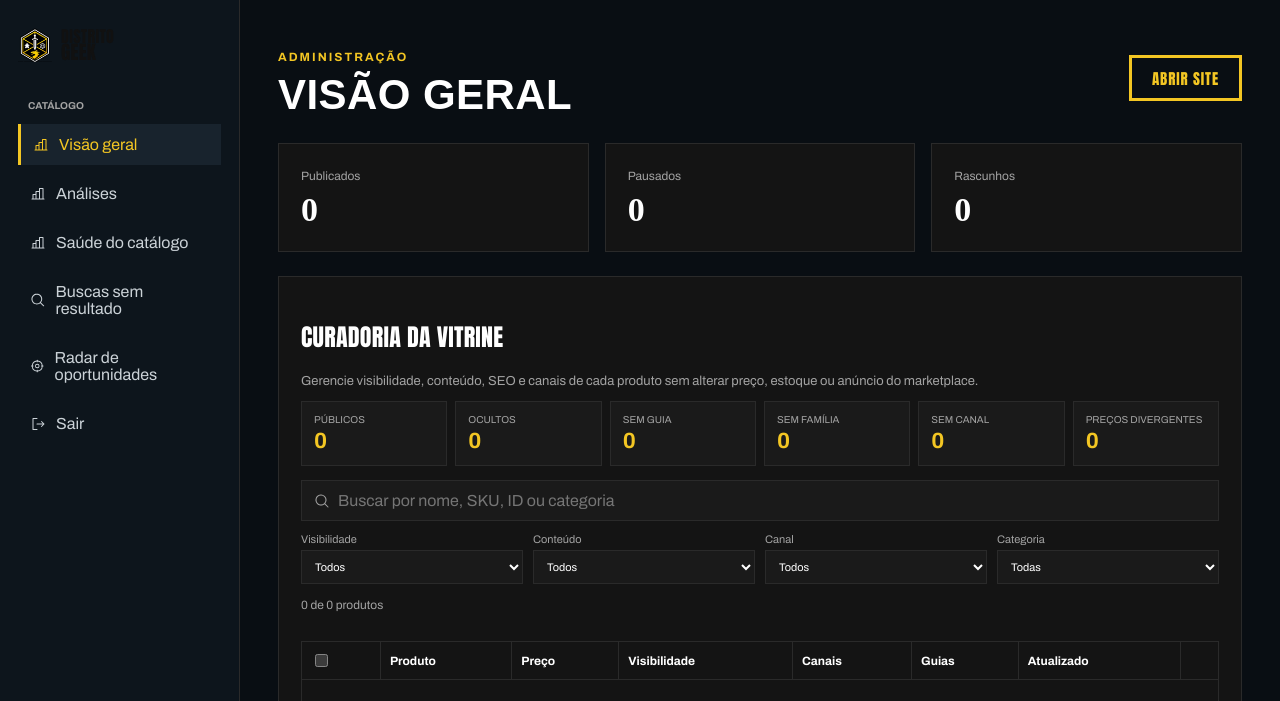
Test case: renderiza desempenho de guias, termos e faixas de oportunidade quando há dados de Search Console
Click the button "Análises": (120, 194) [18,173,221,214]
(page scrolled)
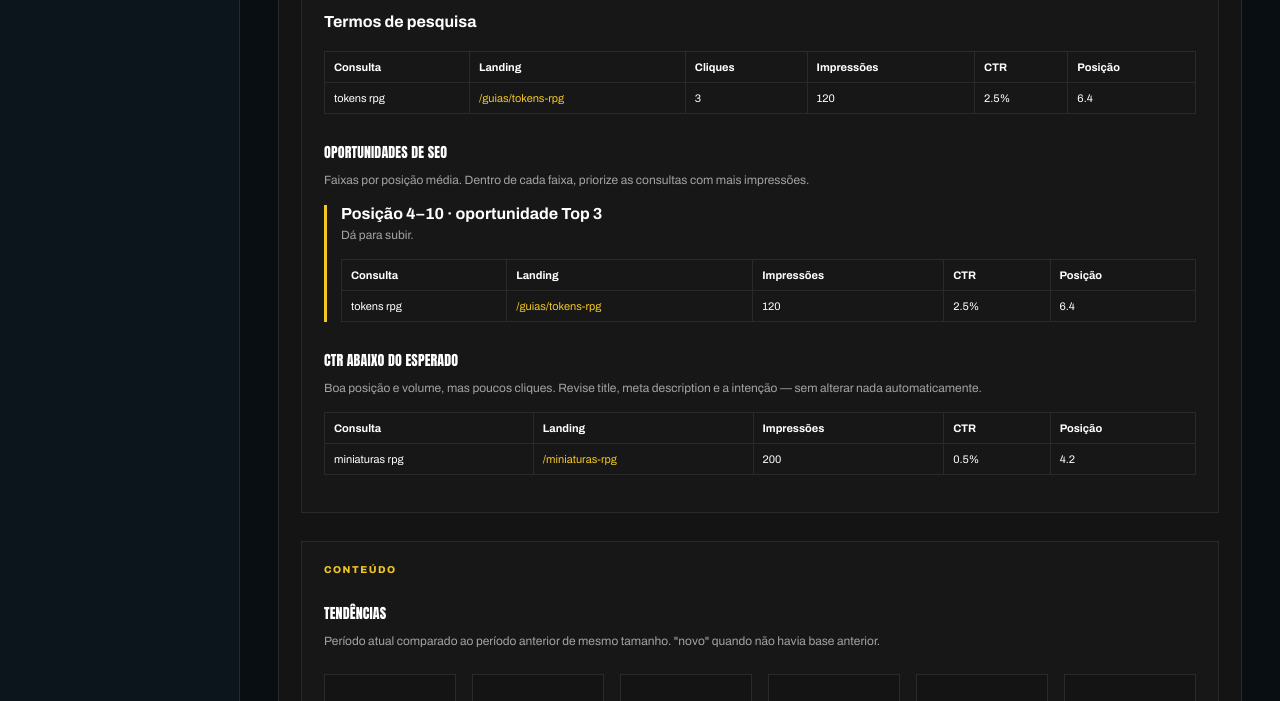
Check: the heading "Termos de pesquisa" is shown, box [324,13,476,30]
Check: the heading "Oportunidades de SEO" is shown, box [324,142,447,163]
Check: the heading "Posição 4–10 · oportunidade Top 3" is shown, box [341,205,602,222]
